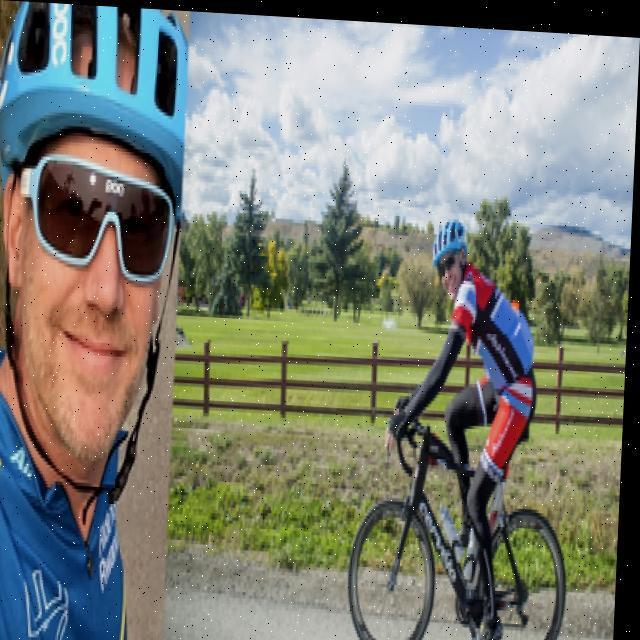Helmet: (10, 0, 206, 504), (428, 206, 482, 307)
